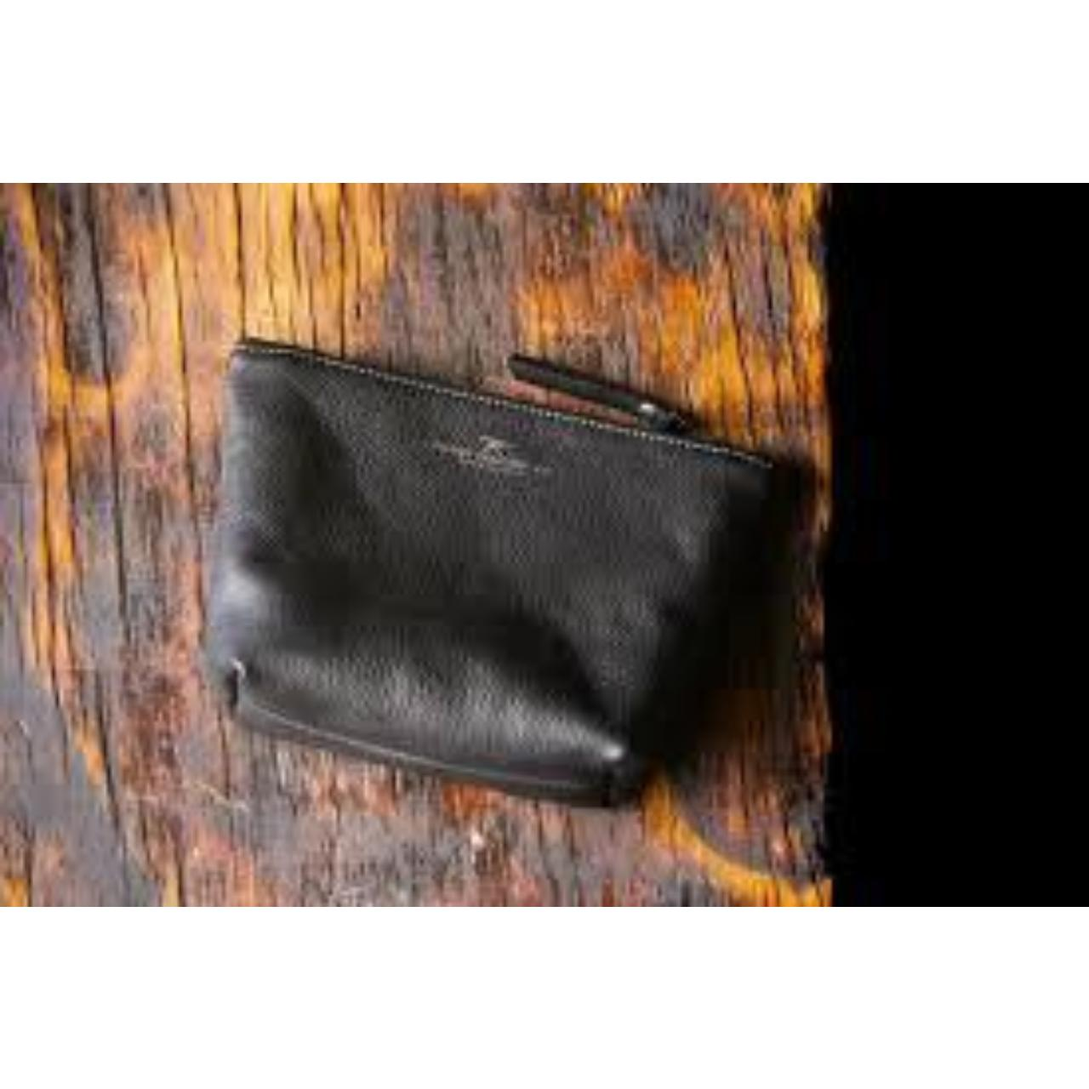wallet: (184, 412, 726, 820)
